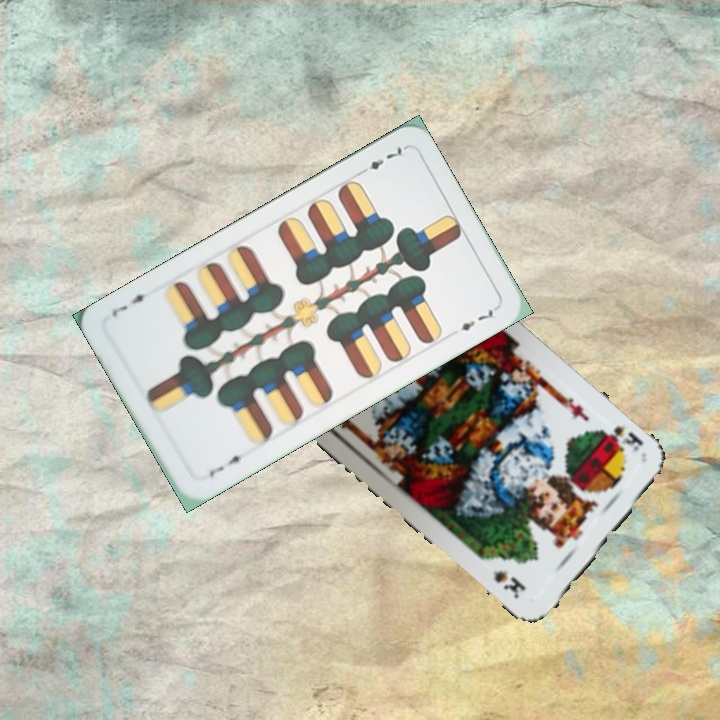E7: (354, 142, 408, 178), (204, 450, 250, 480)
SK: (598, 421, 646, 454)
